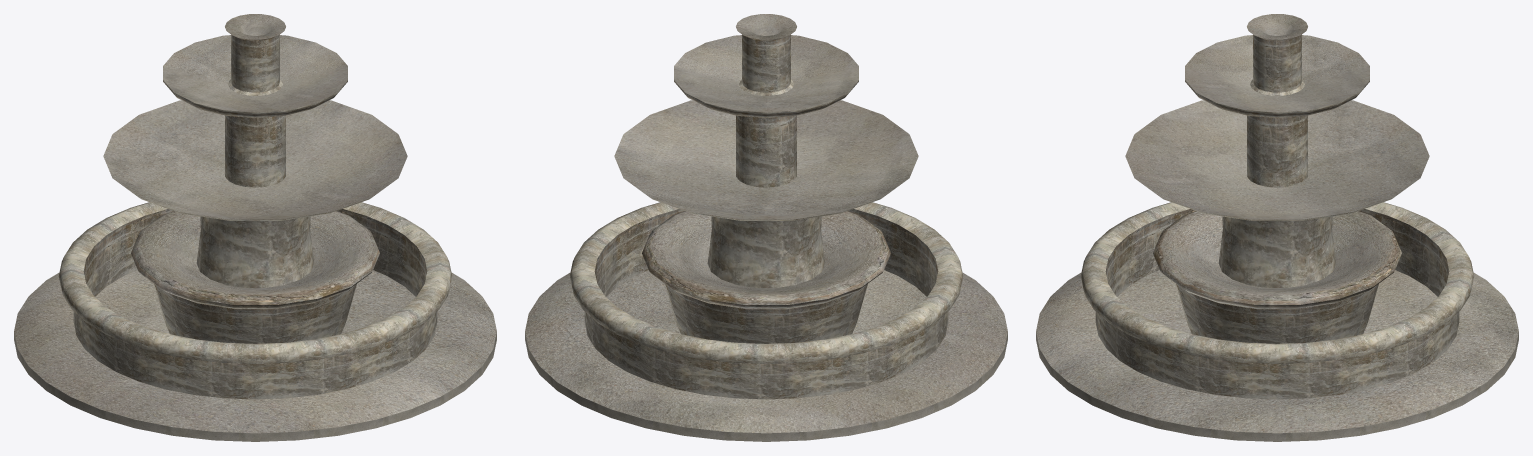
File: cemetary_fountain.FBX
3 views of the same model, side by side, from view 1: azimuth 30°, elevation 25°; view 2: azimuth 150°, elevation 25°; view 3: azimuth 270°, elevation 25° (orthographic).
Parts seen in each view (by area): view 1: Object004; view 2: Object004; view 3: Object004.
Boxes of the visible parts, x1,y1,x2,y2 form: Object004: [14, 14, 496, 441]; Object004: [525, 14, 1007, 441]; Object004: [1036, 14, 1518, 441].
Bounding box in the file's own units: 3278 × 2345 × 3277.
